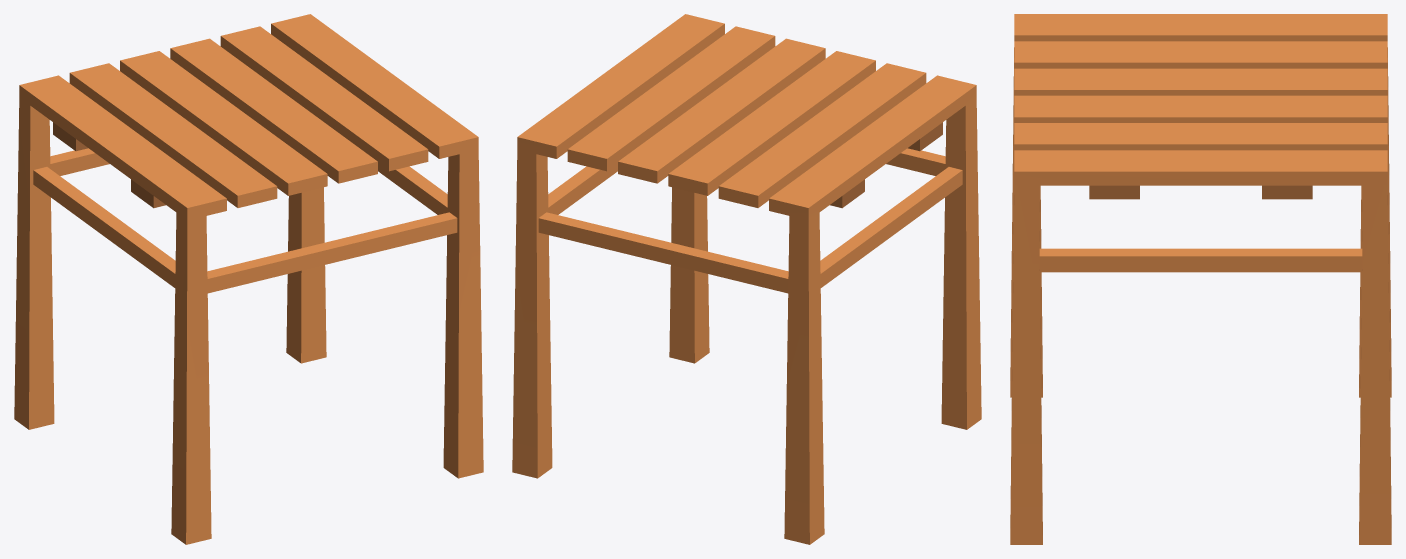
The model's file is Structure Base.glb.
3 renders of one model, left to right at view 1: azimuth 30°, elevation 25°; view 2: azimuth 150°, elevation 25°; view 3: azimuth 270°, elevation 25°, orthographic. The views are drawn at different scales.
Visible parts, largest first — view 1: structureBase; view 2: structureBase; view 3: structureBase.
Part boxes in pixels (bbox=[...]): structureBase: bbox=[14, 14, 483, 544]; structureBase: bbox=[512, 14, 981, 544]; structureBase: bbox=[1010, 14, 1391, 544].
Bounding box in the file's own units: 0.5 × 0.5375 × 0.5.
